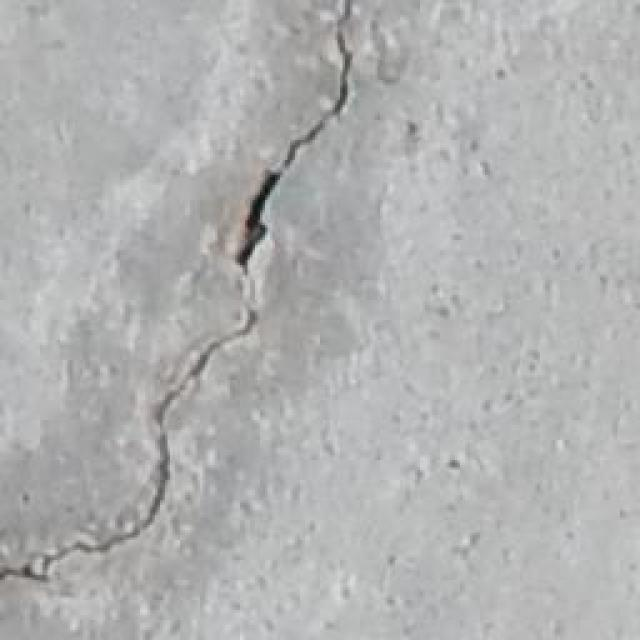concrete-crack: (0, 1, 359, 587)
